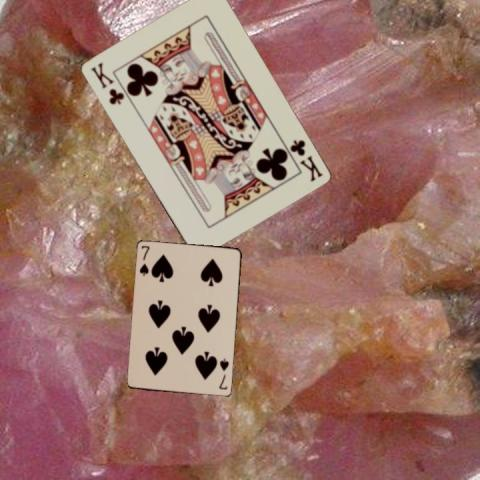7s: (216, 356, 231, 391), (136, 243, 150, 277)
Kc: (87, 59, 125, 106), (287, 137, 324, 183)
